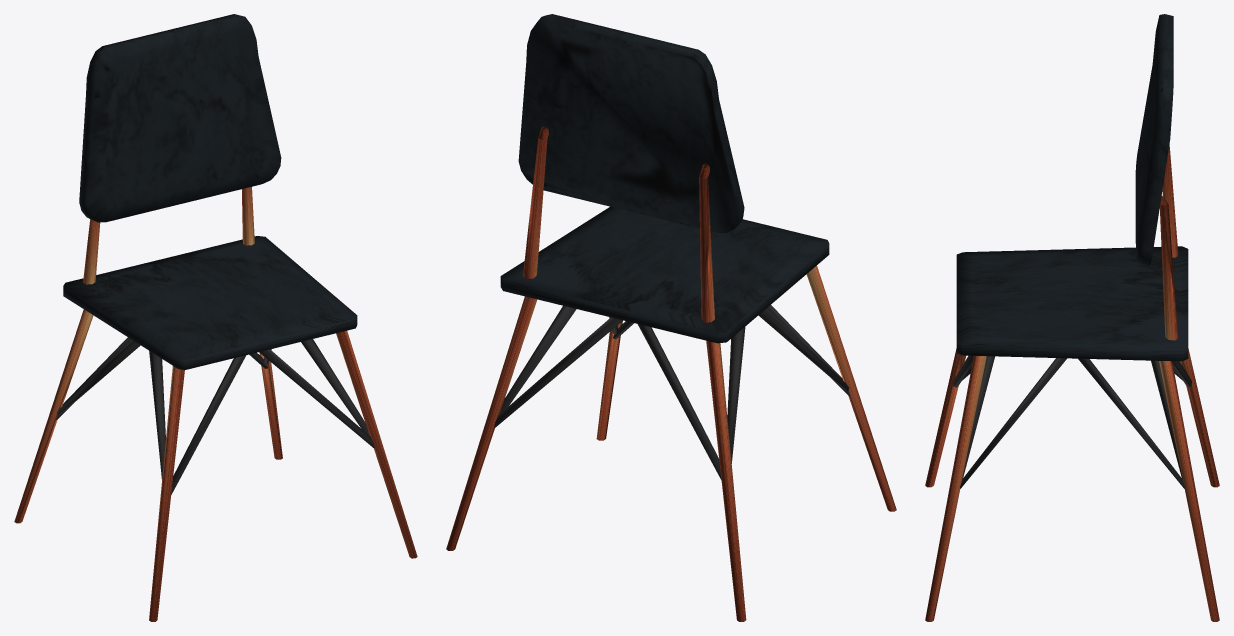
The model's file is KitchenChair.fbx.
3 views of the same model, side by side, from view 1: azimuth 30°, elevation 25°; view 2: azimuth 150°, elevation 25°; view 3: azimuth 270°, elevation 25° (orthographic). The views are drawn at different scales.
Parts seen in each view (by area): view 1: BackRest, Top, Leg, Support, Support2, BackSupport; view 2: BackRest, Top, Leg, Support, BackSupport, Support2; view 3: Top, Leg, BackRest, Support2, BackSupport, Support.
Boxes of the visible parts, x1,y1,x2,y2 form: BackRest: (79,14,281,222); Top: (63,236,357,369); Leg: (14,309,417,621); Support: (56,337,374,494); Support2: (57,339,369,479); BackSupport: (83,187,254,284); BackRest: (518,14,744,233); Top: (500,206,829,343); Leg: (446,265,896,621); Support: (494,305,849,480); BackSupport: (523,126,714,322); Support2: (500,305,849,463); Top: (956,246,1188,361); Leg: (925,348,1219,621); BackRest: (1135,14,1173,265); Support2: (960,358,1184,488); BackSupport: (1159,144,1178,340); Support: (953,355,1191,478).
Size of the model in its own units: 1297 by 2214 by 1171.
